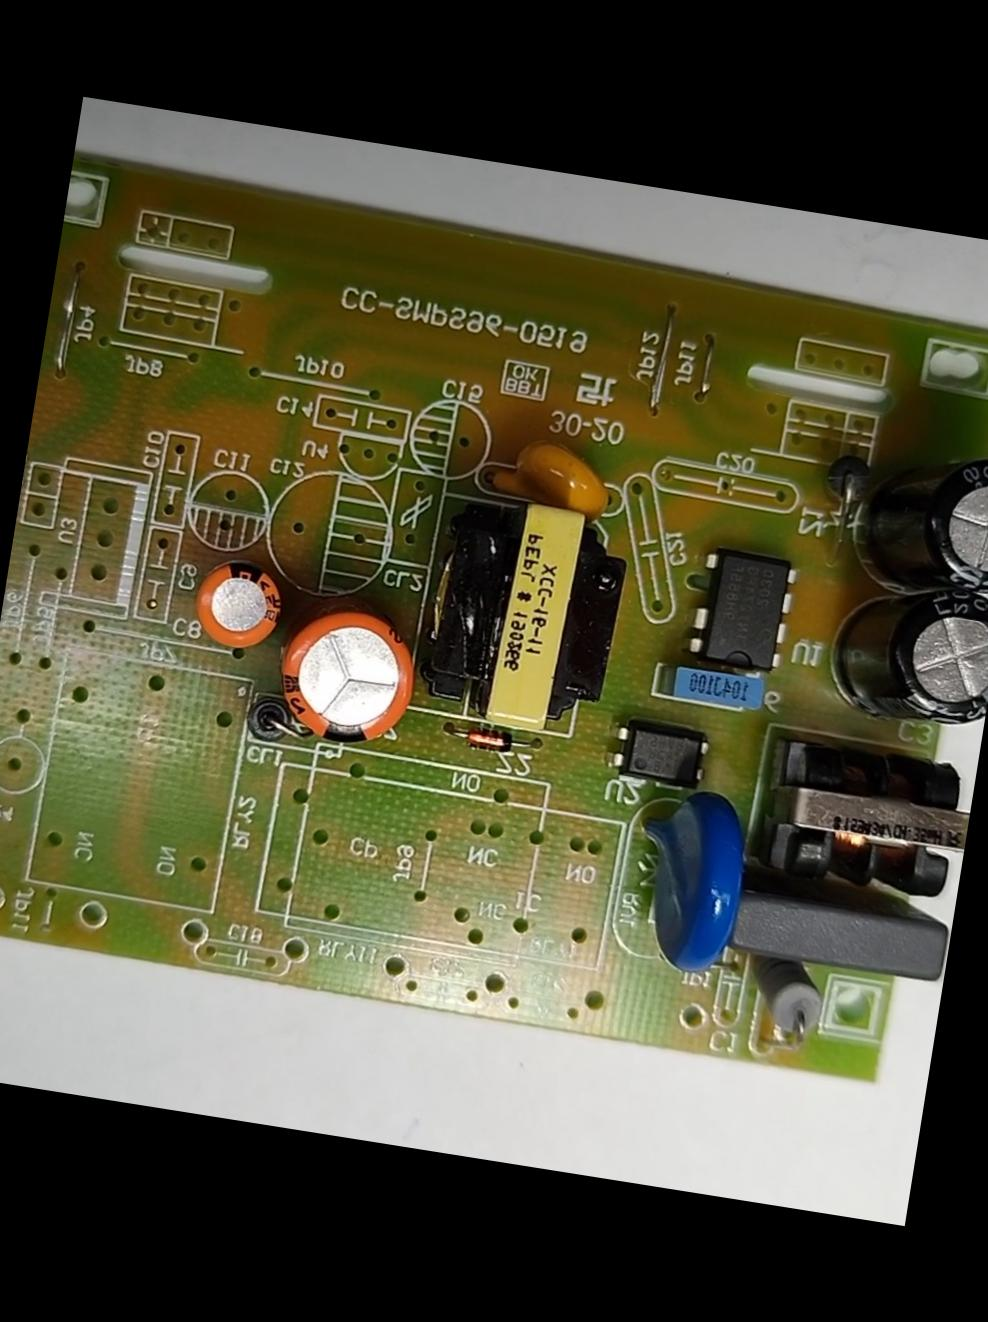Cap1: (263, 596, 428, 762)
Cap2: (190, 552, 293, 654)
Cap3: (812, 563, 987, 738)
Cap4: (838, 428, 987, 603)
MOSFET: (684, 548, 801, 679)
Mov: (609, 779, 762, 977)
Resistor: (734, 953, 834, 1041)
Transformer: (412, 481, 635, 744), (749, 727, 978, 915)
